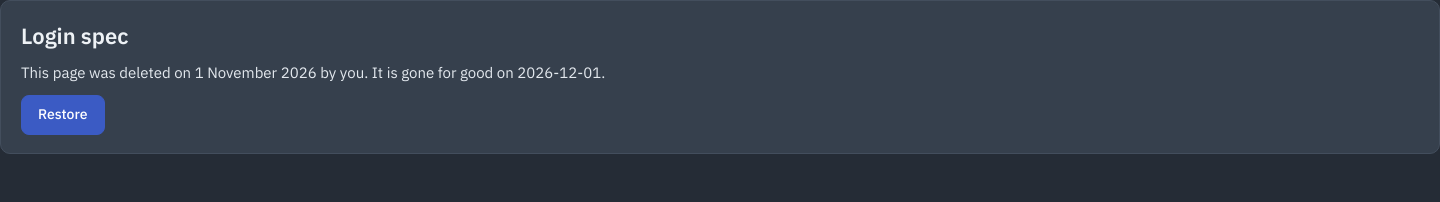
DeletedNotice (BOS-2197) › shows the error when Restore is refused
What coordinates should you click on to do the following:
click the button "Restore"
I would click on:
 (63, 114)
Its box is x1=21 y1=94 x2=104 y2=134.
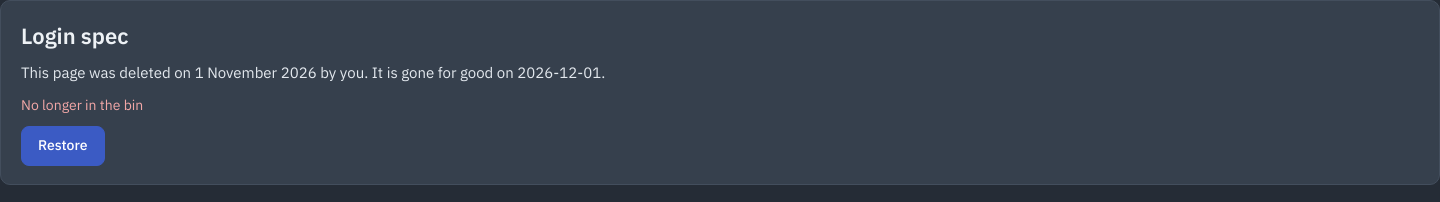
Expected: the message "No longer in the bin" is shown, x1=21 y1=96 x2=143 y2=114
